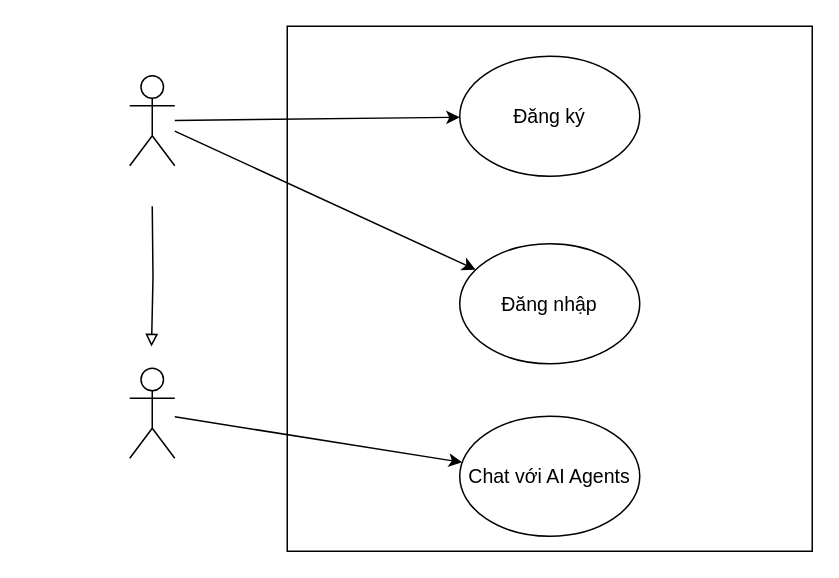
Image size: 839x578. Some labels were removed from this diagram. Here are the shapes that lost their labels. From the top down, the centre of each, then its label:
point (151, 120): Người dùng chưa đăng nhập
point (151, 412): Người dùng đã đăng nhập
